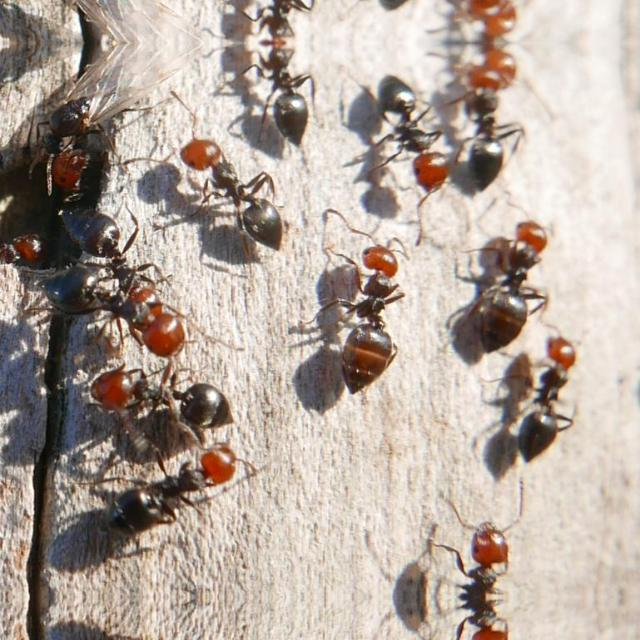Crematogaster: (36, 41, 204, 162), (175, 124, 302, 262), (46, 264, 194, 364), (362, 60, 451, 202), (331, 228, 415, 378), (113, 438, 239, 534), (82, 354, 238, 430), (520, 339, 596, 468), (241, 42, 325, 148), (76, 202, 168, 296), (478, 234, 548, 346), (454, 64, 518, 186), (36, 0, 204, 42), (440, 522, 516, 596), (241, 0, 325, 42), (440, 596, 515, 640)
